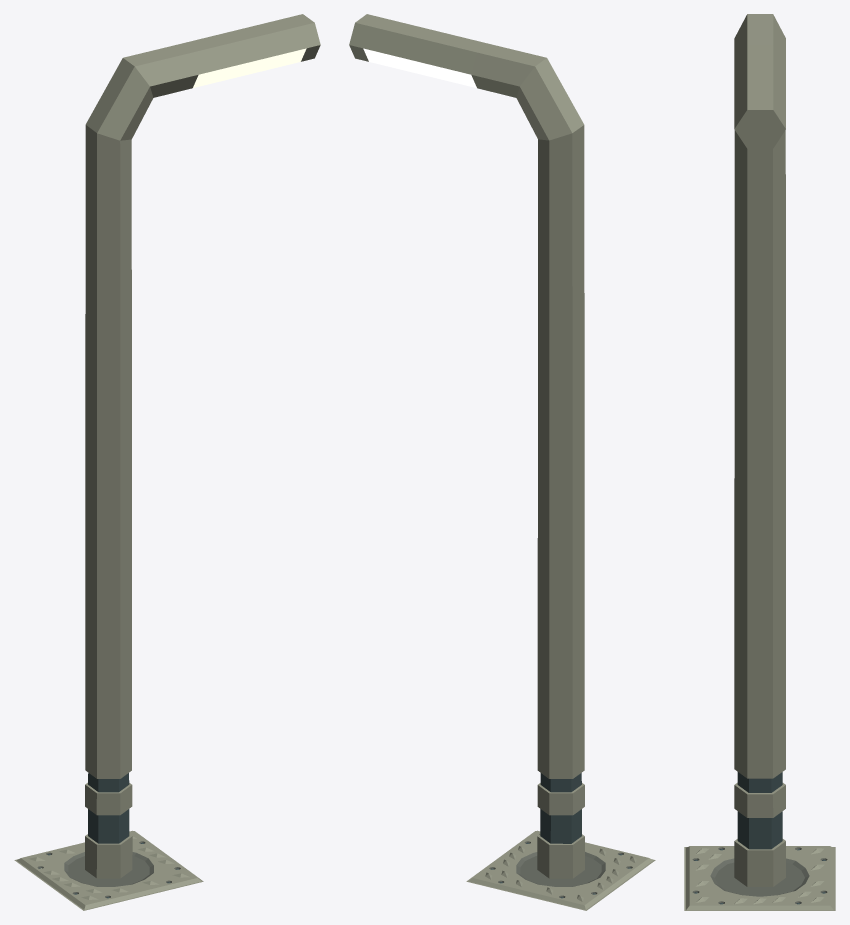
File: StreetLight.fbx
3 renders of one model, left to right at view 1: azimuth 30°, elevation 25°; view 2: azimuth 150°, elevation 25°; view 3: azimuth 270°, elevation 25°, orthographic. The views are drawn at different scales.
Parts seen in each view (by area): view 1: Street_lamp_floor_level; view 2: Street_lamp_floor_level; view 3: Street_lamp_floor_level.
Part boxes in pixels (x1,y1,x2,y2): Street_lamp_floor_level: [14, 14, 320, 910]; Street_lamp_floor_level: [349, 14, 655, 910]; Street_lamp_floor_level: [684, 14, 835, 910].
Bounding box in the file's own units: 232 × 687 × 107.
